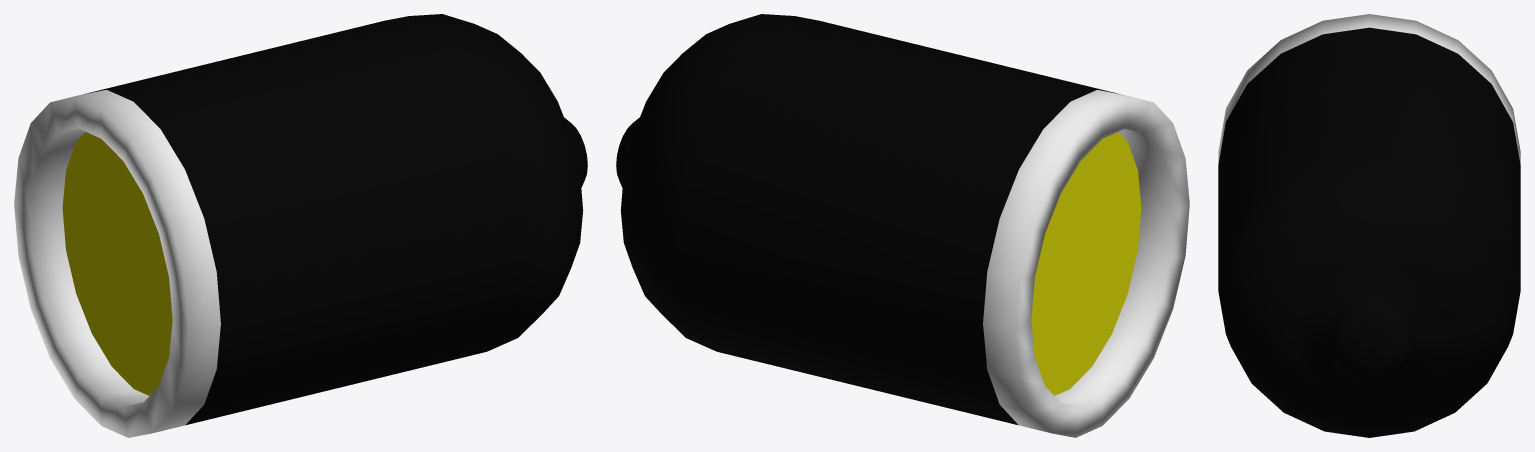
The model's file is Indoor Spotlight.fbx.
3 views of the same model, side by side, from view 1: azimuth 30°, elevation 25°; view 2: azimuth 150°, elevation 25°; view 3: azimuth 270°, elevation 25° (orthographic). The views are drawn at different scales.
Parts seen in each view (by area): view 1: Light; view 2: Light; view 3: Light.
Part boxes in pixels (bbox=[...]): Light: bbox=[14, 14, 587, 437]; Light: bbox=[616, 14, 1189, 437]; Light: bbox=[1218, 14, 1520, 437].
Size of the model in its own units: 0.2524 by 0.16 by 0.16.
